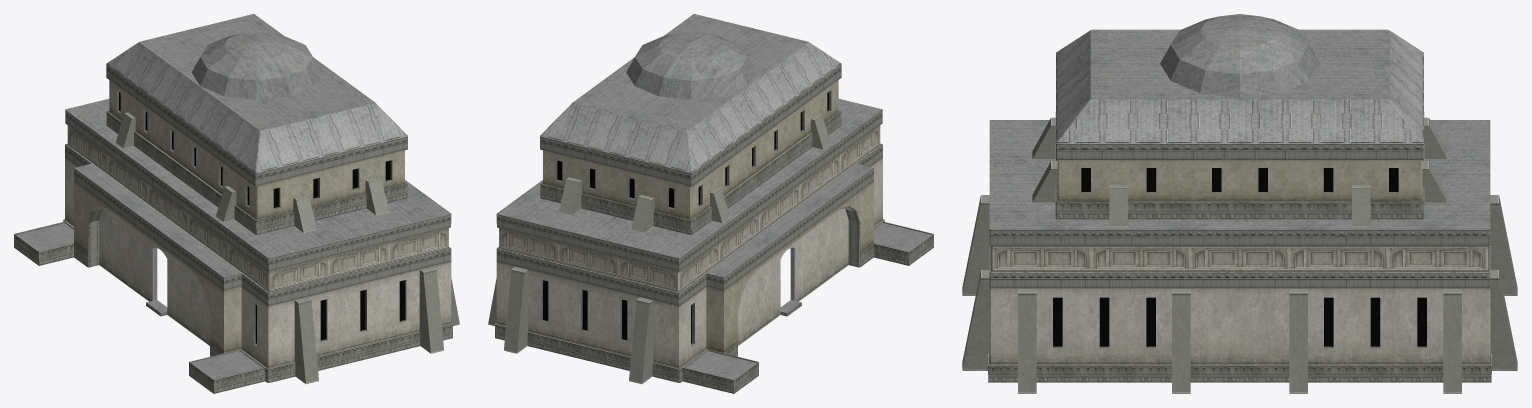
The model's file is thm_corl_imprv_historic_24x16_s01_r0_mesh_l0.fbx.
The picture shows the model from 3 angles, left to right: view 1: azimuth 30°, elevation 25°; view 2: azimuth 150°, elevation 25°; view 3: azimuth 270°, elevation 25°; orthographic projection. The views are drawn at different scales.
Visible parts, largest first — view 1: mesh_node; view 2: mesh_node; view 3: mesh_node.
Boxes of the visible parts, x1=… form: mesh_node: x1=14, y1=14, x2=459, y2=393; mesh_node: x1=488, y1=14, x2=933, y2=393; mesh_node: x1=962, y1=14, x2=1517, y2=393.
Bounding box in the file's own units: 15.54 × 14.21 × 23.81.
